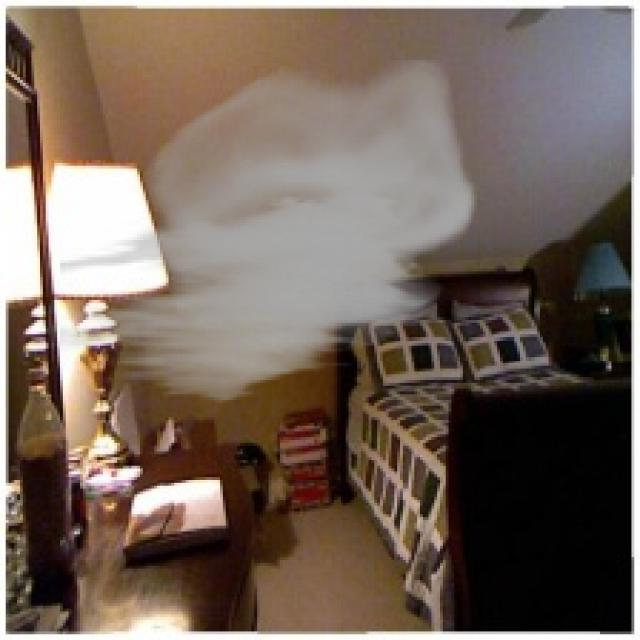smoke: (60, 57, 477, 406)
